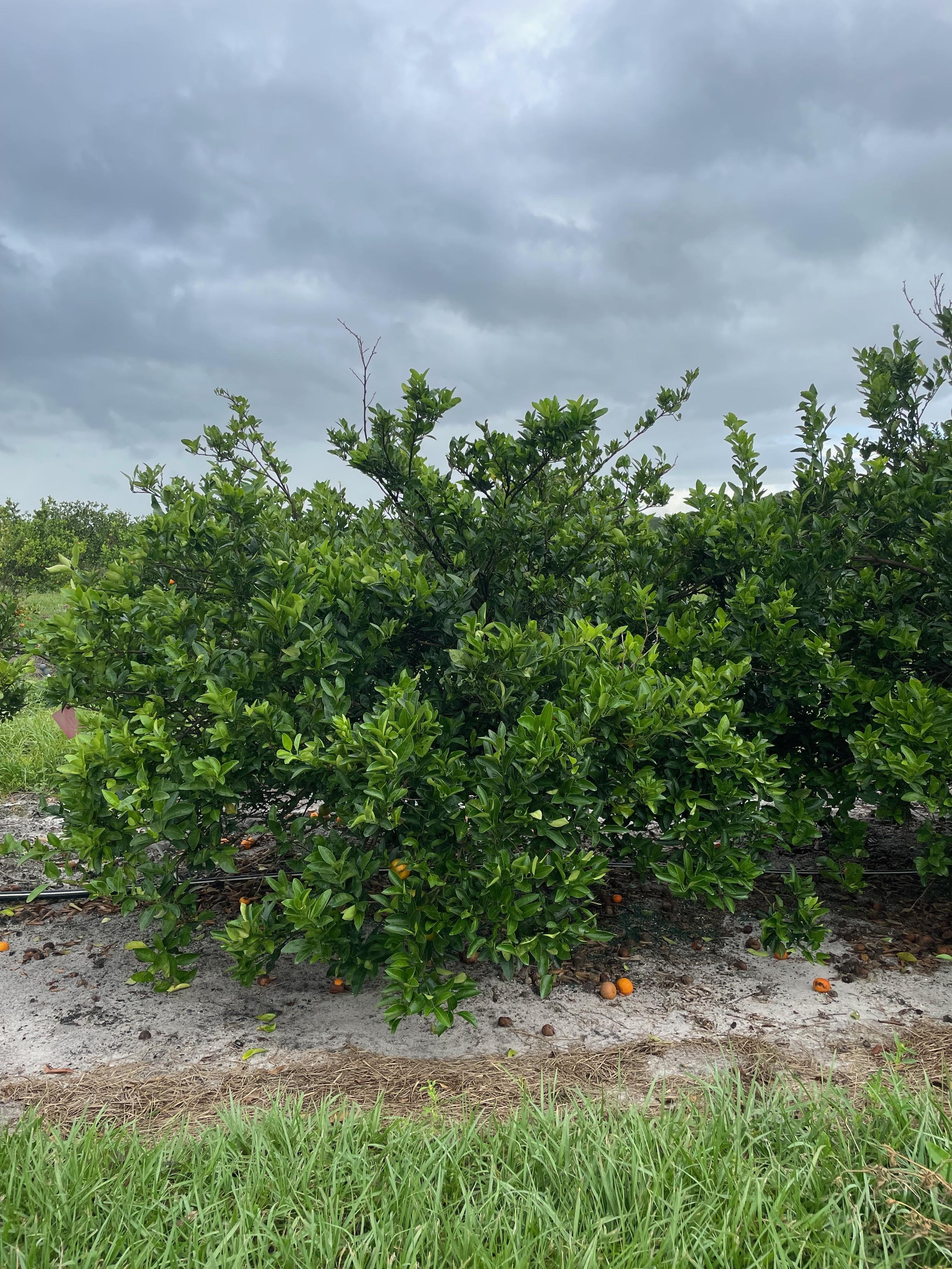fruit_on_ground: (404, 888, 431, 914), (387, 856, 413, 881), (317, 802, 333, 817)
fruit_on_tree: (597, 979, 619, 1002), (615, 975, 635, 997), (460, 947, 481, 966), (811, 975, 832, 994), (328, 977, 345, 994), (539, 1021, 556, 1038), (255, 972, 272, 988), (744, 937, 762, 952), (690, 937, 706, 952), (497, 1015, 513, 1030), (773, 948, 789, 961), (617, 944, 631, 958), (611, 891, 625, 904), (0, 938, 12, 953), (238, 839, 252, 850), (742, 923, 754, 935), (238, 895, 251, 906), (220, 836, 231, 846), (309, 811, 319, 820), (246, 836, 256, 845)
